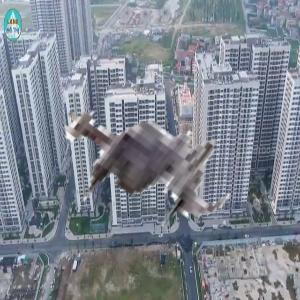drone: (27, 62, 240, 275)
